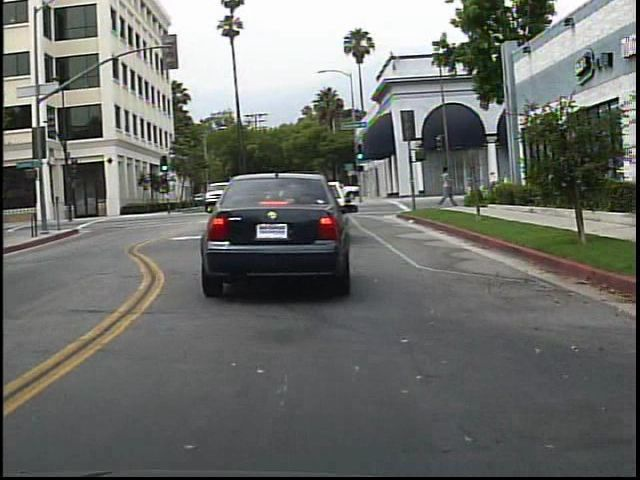person: (429, 163, 461, 212)
